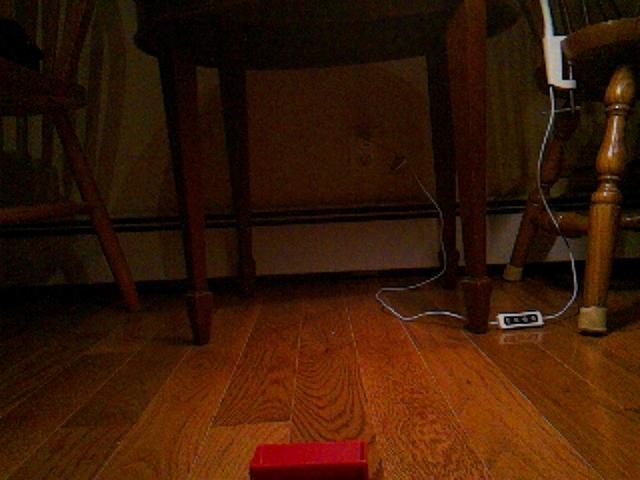red: (248, 438, 370, 480)
